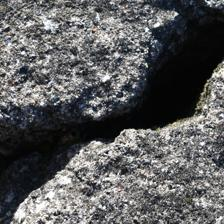Crack: (35, 75, 162, 149), (77, 16, 145, 100)
